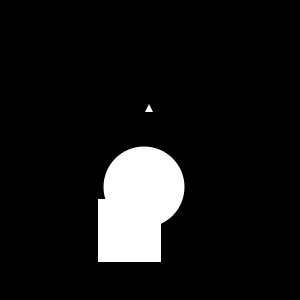circle: (98, 199, 161, 262)
rectangle: (103, 146, 184, 228)
triangle: (145, 104, 153, 112)
